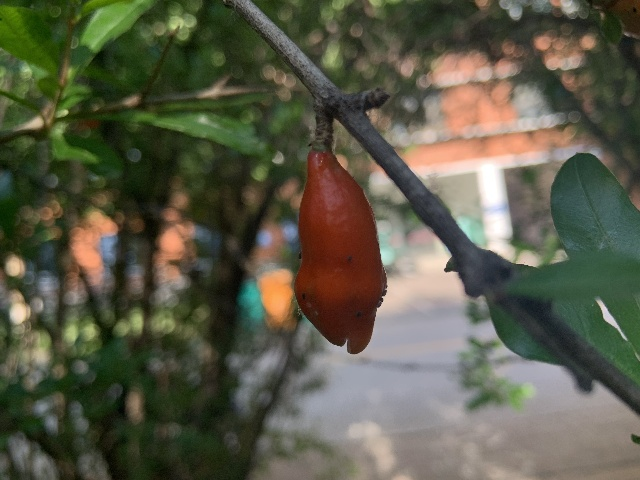bud: (293, 150, 385, 353)
